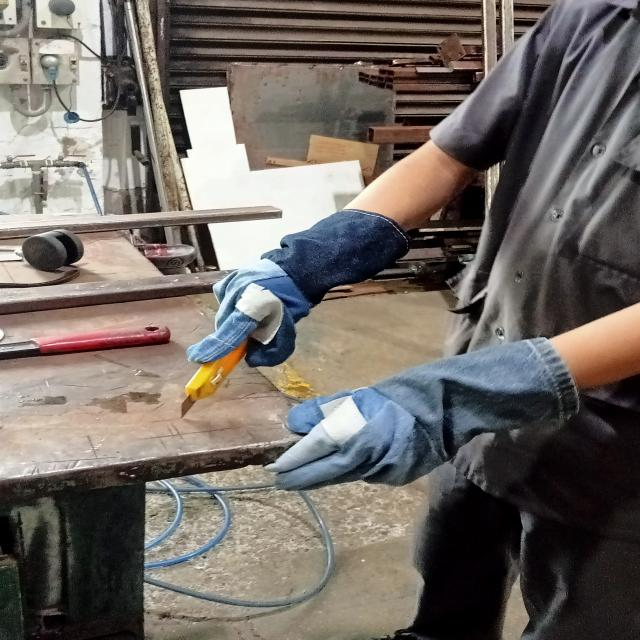Gloves-Detection: (276, 346, 560, 493), (204, 223, 400, 357)
